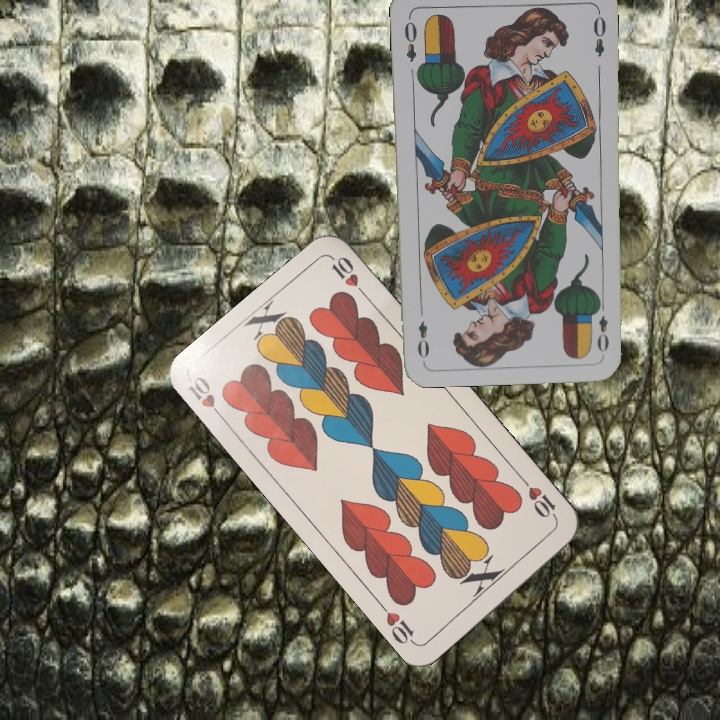EO: (591, 297, 611, 355), (400, 12, 420, 64)
H10: (184, 372, 229, 425), (517, 475, 561, 524)
